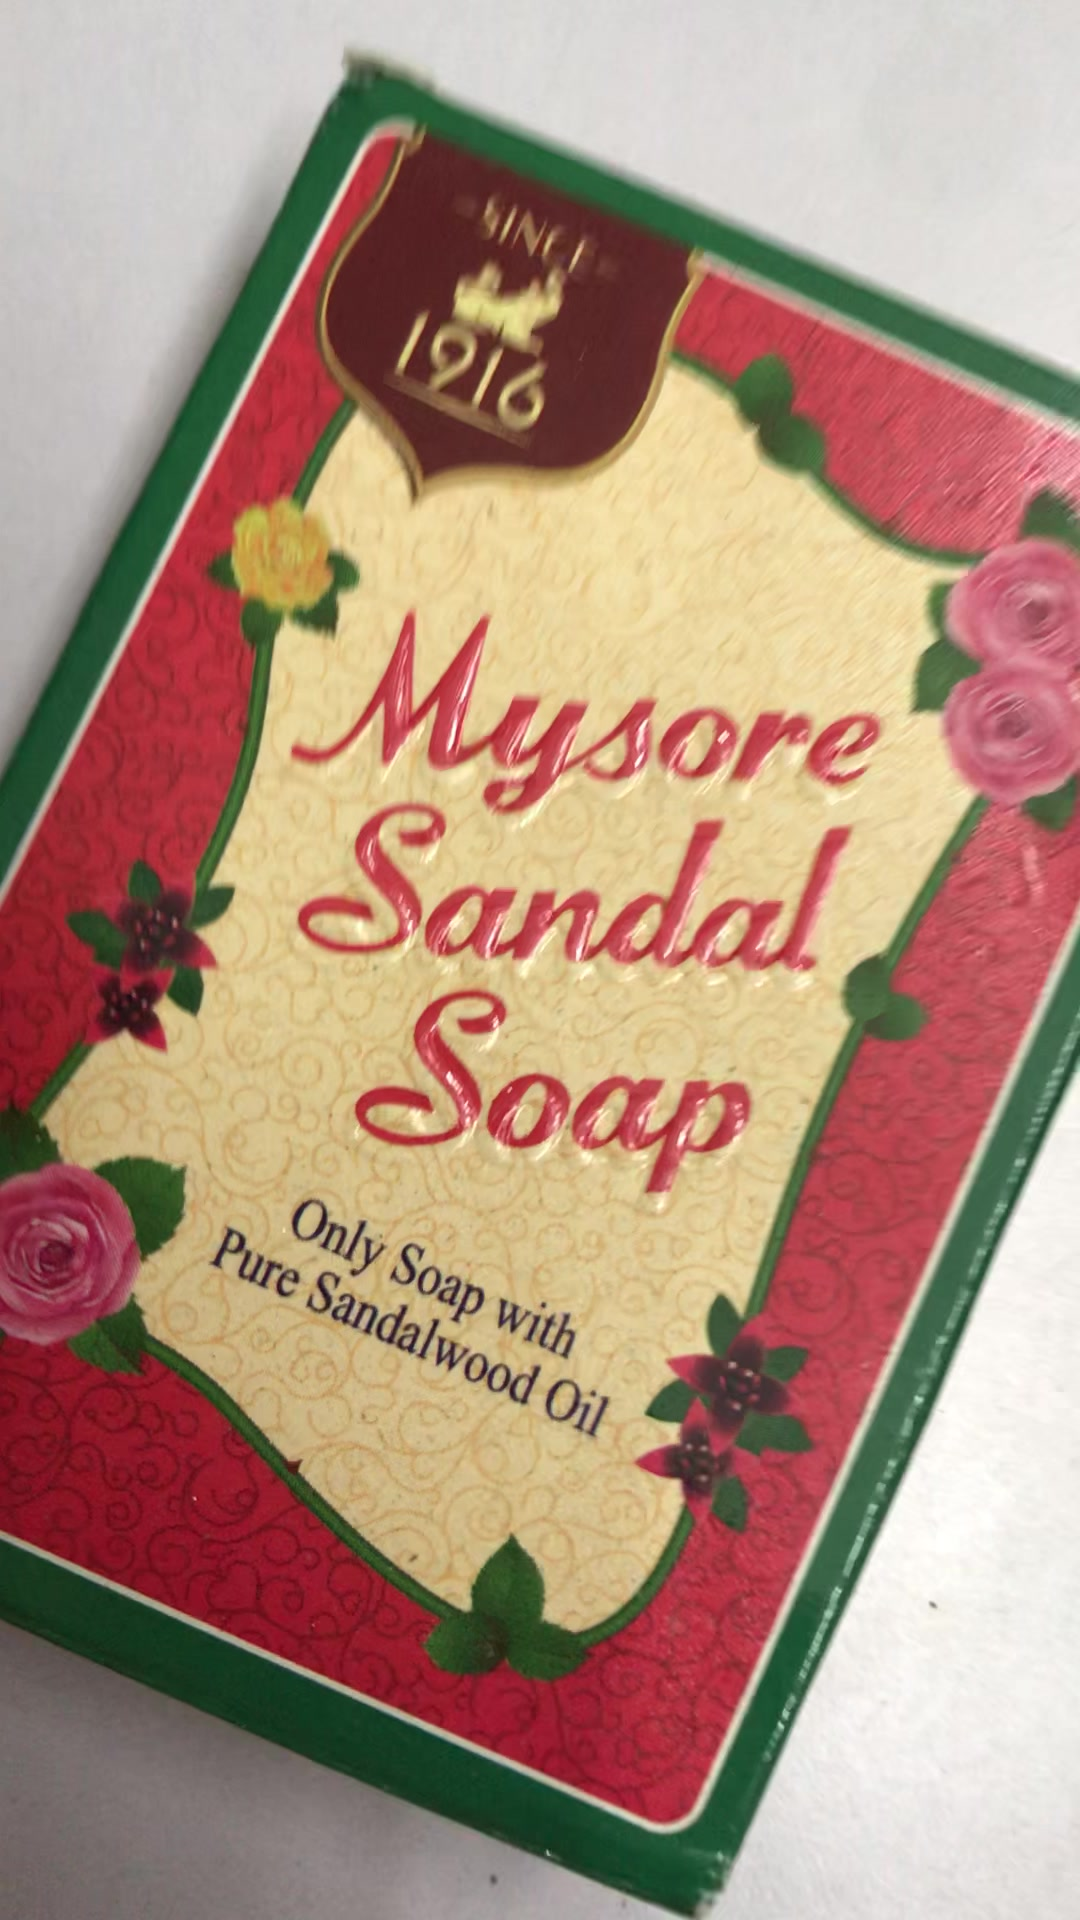mysore sandal soap: (1, 50, 1068, 1911)
